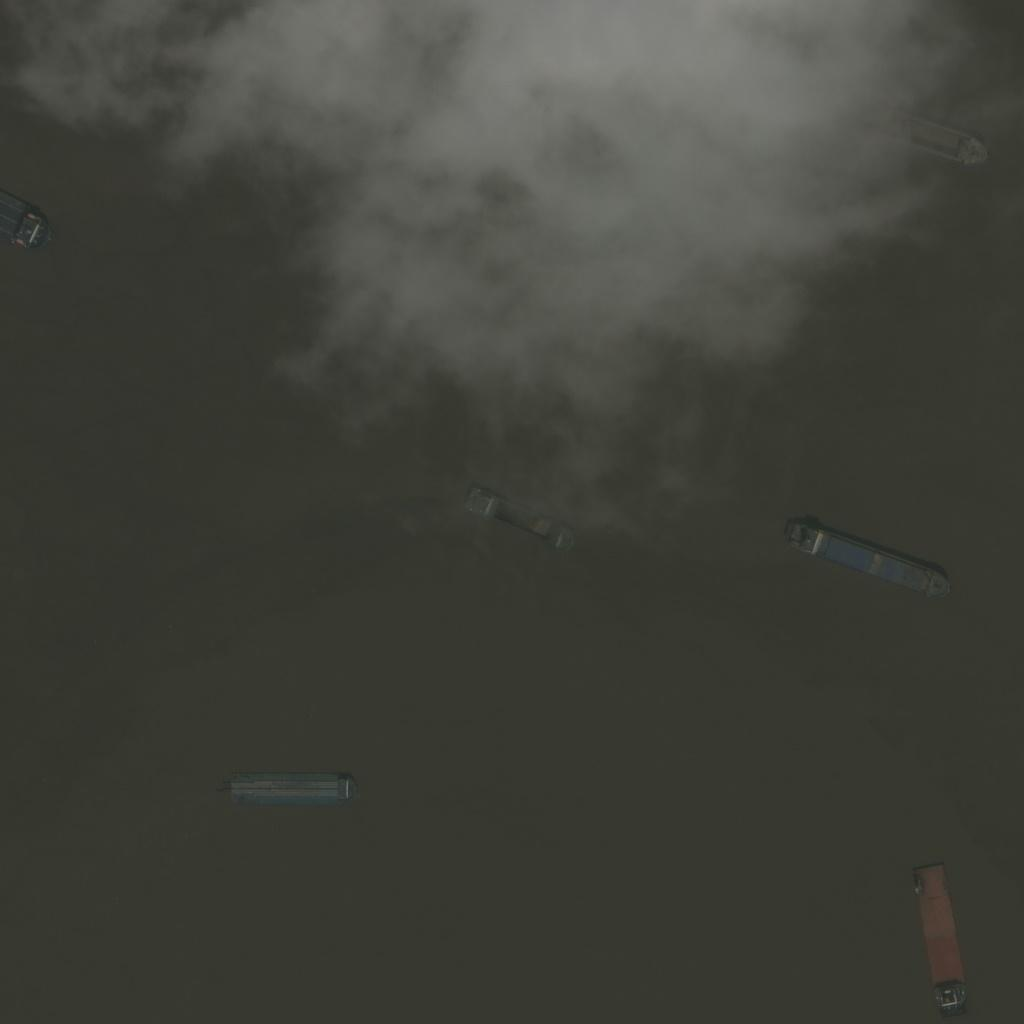ship: (786, 515, 962, 605), (465, 481, 582, 554)
